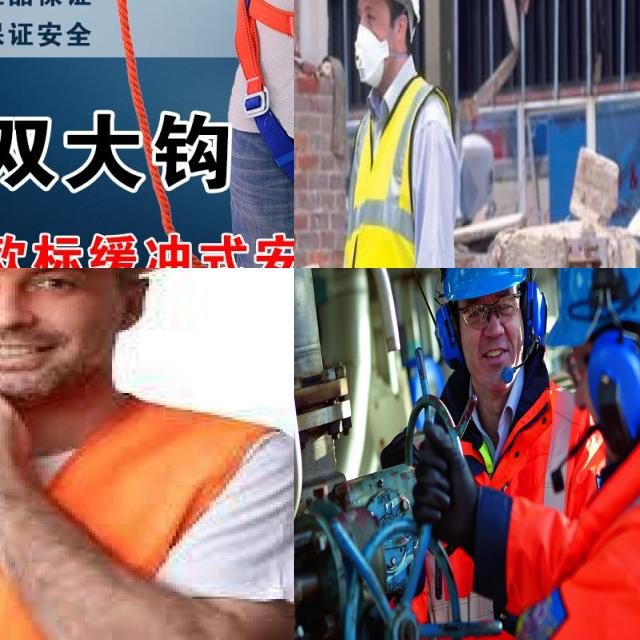No_Glasses: (0, 268, 97, 305)
face_mask: (349, 0, 406, 94)
face_nomask: (0, 268, 114, 385), (458, 294, 525, 390)
glasses: (457, 296, 523, 333)
hand_glove: (410, 416, 478, 535)
hand_noglove: (0, 375, 37, 481)
head_helmet: (547, 268, 640, 346), (440, 268, 529, 298), (344, 0, 420, 18)
person: (430, 268, 573, 513), (549, 268, 640, 640), (334, 0, 456, 268)
vest: (0, 400, 294, 640), (421, 419, 640, 640), (429, 381, 577, 640), (343, 75, 453, 268)
